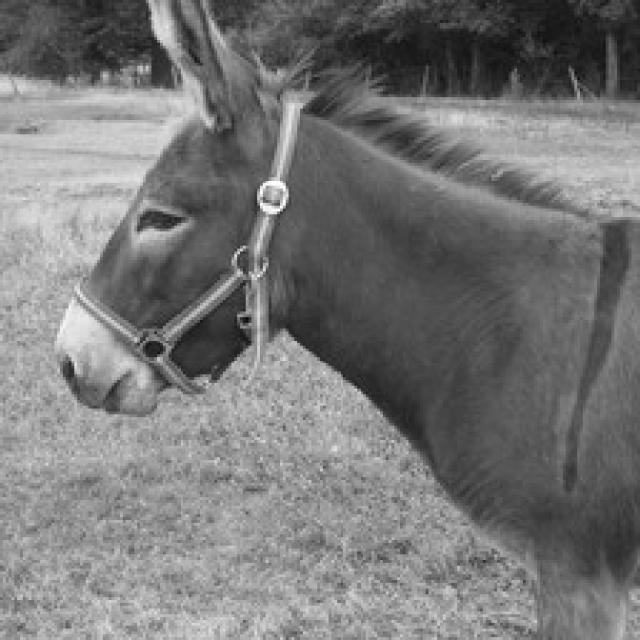Donkey: (52, 0, 637, 637)
